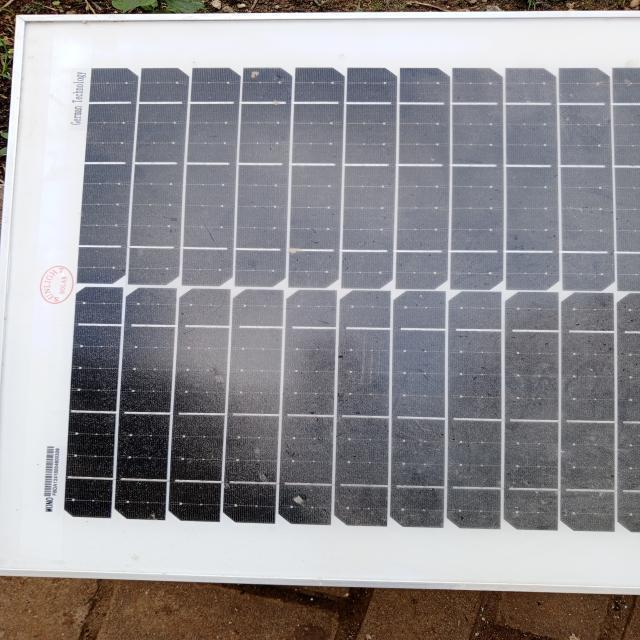Surface Contaminant: (64, 60, 639, 548)
